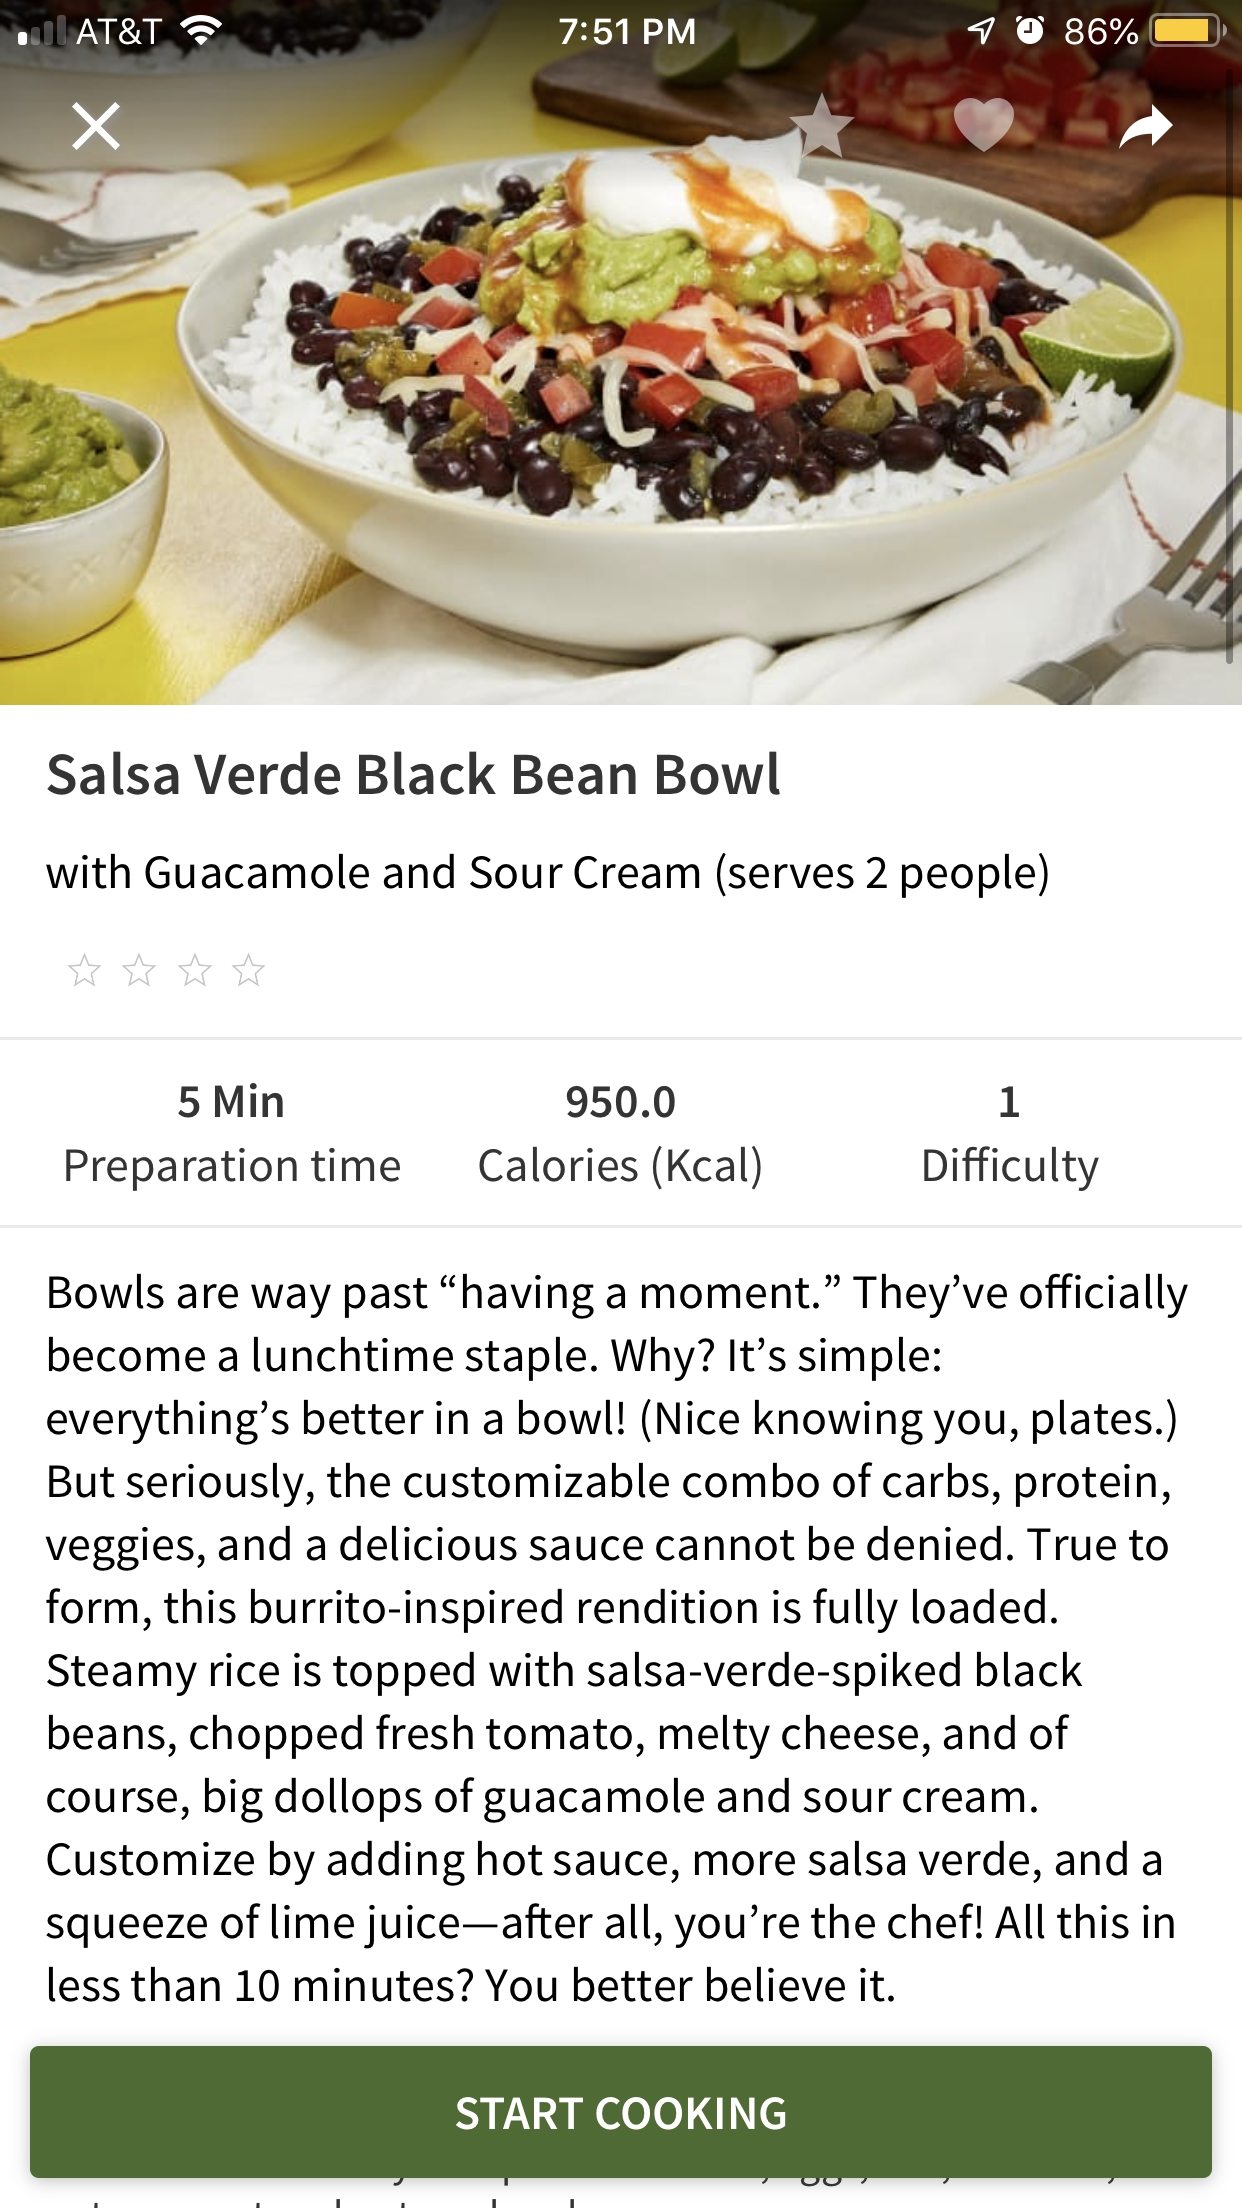Icon: (68, 952, 267, 989), (789, 93, 855, 161), (954, 99, 1015, 155), (1118, 105, 1174, 152), (71, 102, 121, 152)
Image: (2, 49, 1242, 707)
Text: (45, 1272, 1189, 2003), (45, 852, 1049, 899), (47, 751, 783, 798), (67, 1146, 402, 1192), (479, 1146, 761, 1190), (924, 1145, 1099, 1192), (177, 1081, 284, 1119), (567, 1084, 676, 1119), (999, 1084, 1021, 1118)
TextButton: (30, 2046, 1213, 2179)
UpperTaskBar: (2, 2, 1242, 49)
